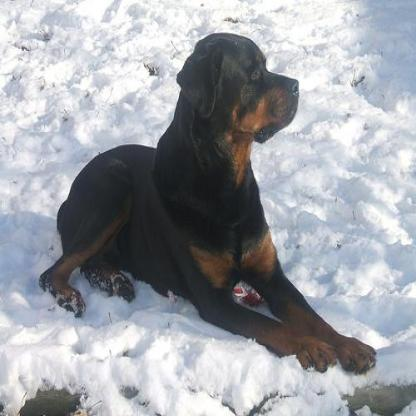Rottweiler: (37, 30, 375, 369)
